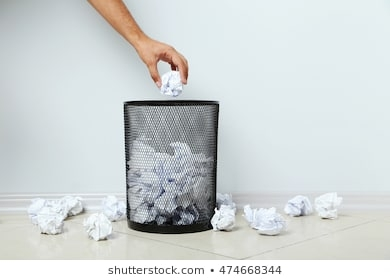paper: (24, 188, 85, 238), (240, 201, 288, 238), (207, 202, 245, 236), (82, 211, 118, 243), (156, 67, 189, 98), (312, 190, 345, 221), (99, 192, 128, 225), (282, 191, 313, 218), (211, 187, 238, 212)
